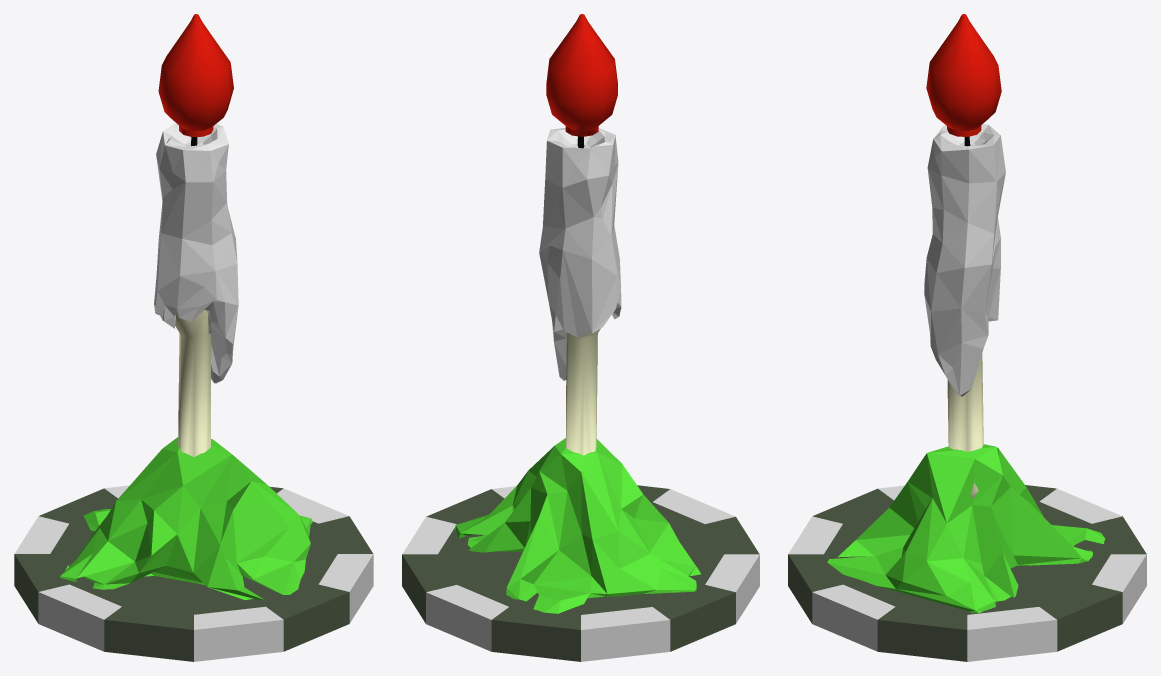
File: LongCandle.fbx
The picture shows the model from 3 angles, left to right: view 1: azimuth 30°, elevation 25°; view 2: azimuth 150°, elevation 25°; view 3: azimuth 270°, elevation 25°; orthographic projection.
Visible parts, largest first — view 1: Circle.001; view 2: Circle.001; view 3: Circle.001.
Part boxes in pixels (x1,y1,x2,y2): Circle.001: (14, 14, 373, 661); Circle.001: (402, 14, 759, 661); Circle.001: (788, 14, 1146, 661).
Bounding box in the file's own units: 0.7825 × 1.38 × 0.7825.
